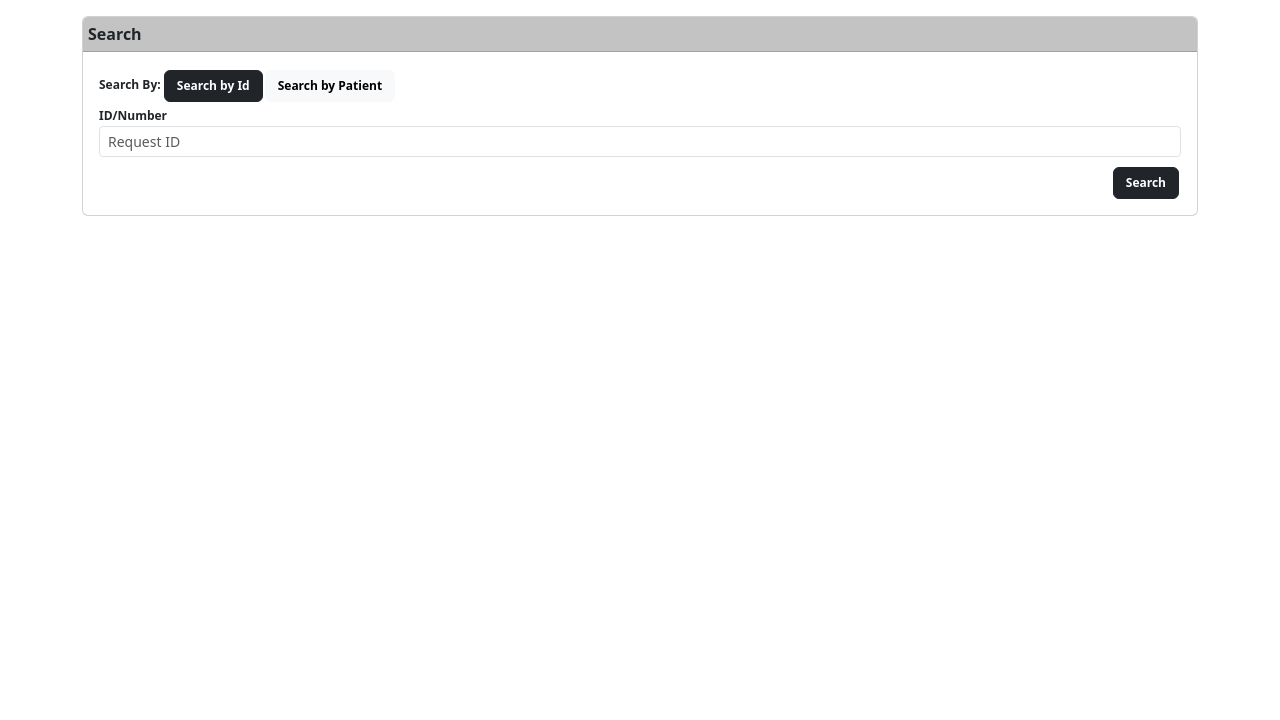
SearchRequestView Component › displays search results after successful ID search
Type "12345" into the field with placeholder "Request ID" at (640, 142), box [99,126,1181,157]
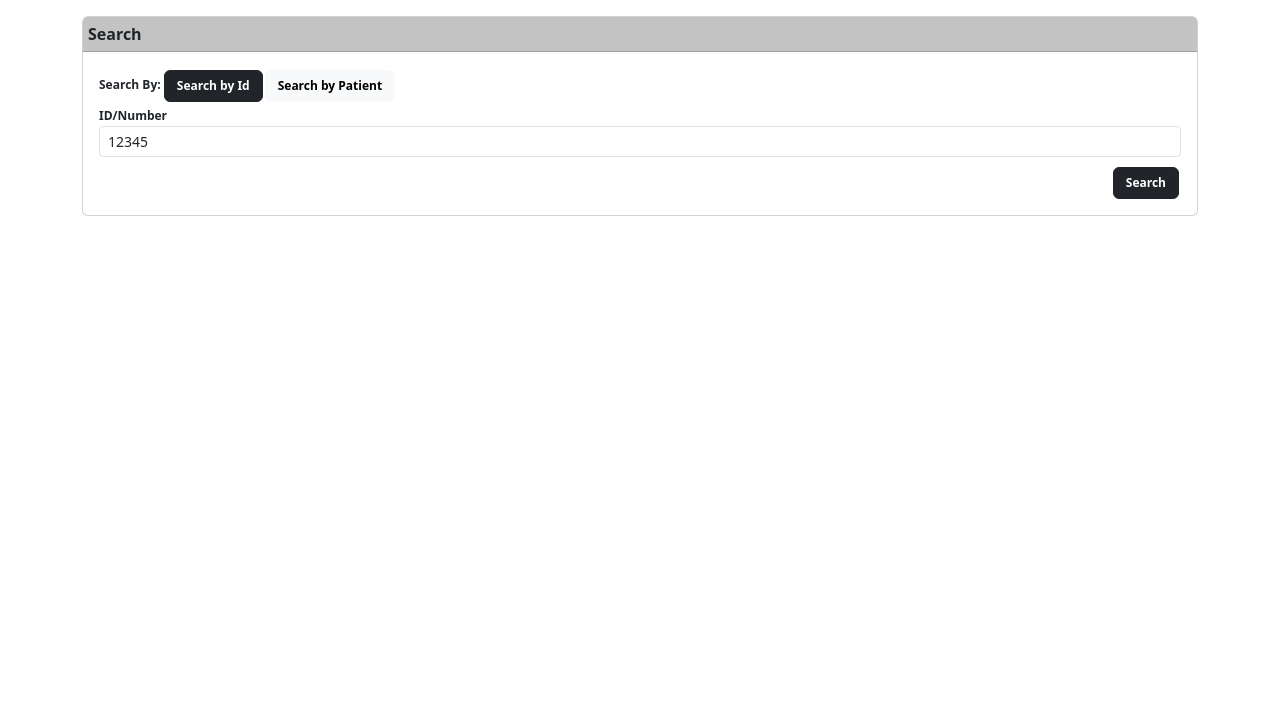
Click the button "Search" at (1146, 183), box [1113,167,1179,199]
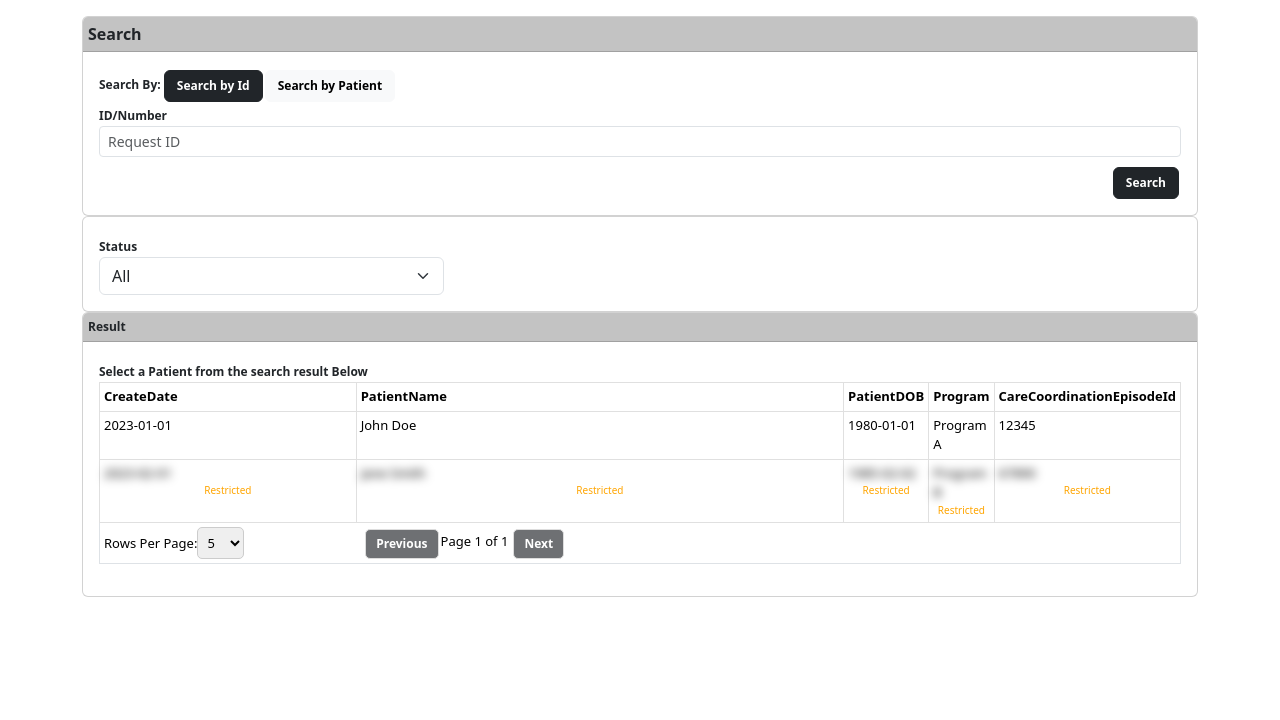
Check: the text "Result" is shown, box [83,313,1197,342]
Check: the text "Select a Patient from the search result Below" is shown, box [99,363,368,381]
Check: the column heading "CreateDate" is shown, box [100,382,356,411]
